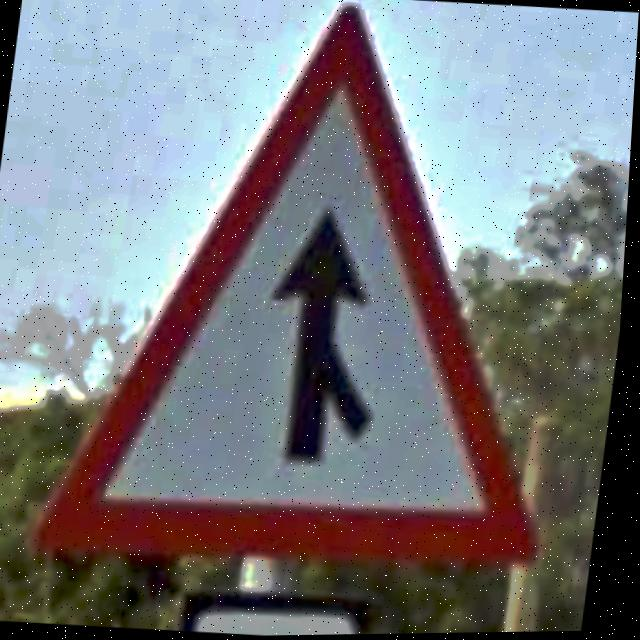rightmerge: (40, 7, 546, 571)
